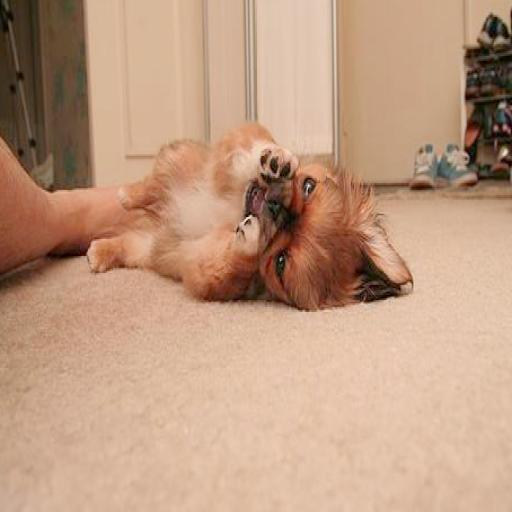dog_face: (241, 158, 411, 320)
